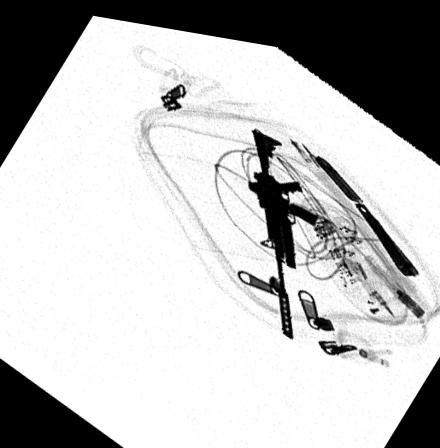Gun: (245, 117, 321, 334)
